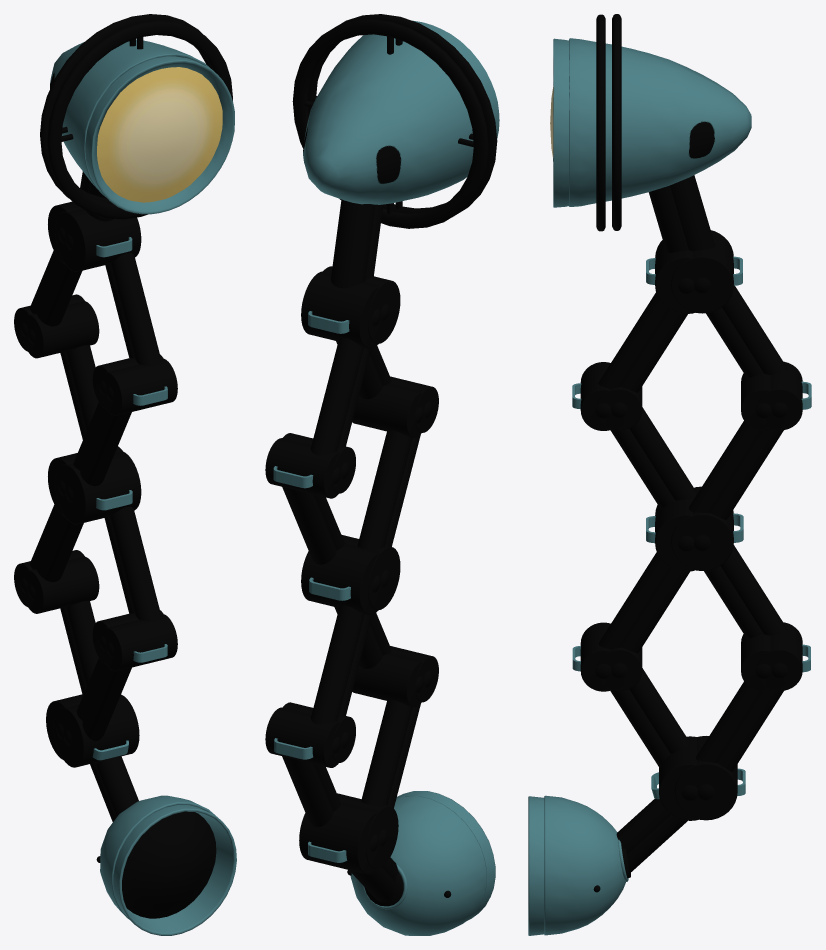
File: Sans titre 1.fbx
3 renders of one model, left to right at view 1: azimuth 30°, elevation 25°; view 2: azimuth 150°, elevation 25°; view 3: azimuth 270°, elevation 25°, orthographic. The views are drawn at different scales.
Parts seen in each view (by area): view 1: node_id46, node_id36; view 2: node_id36, node_id46; view 3: node_id36, node_id46.
Part boxes in pixels (x1,y1,x2,y2): node_id46: (22, 20, 236, 935); node_id36: (14, 14, 215, 919); node_id36: (265, 19, 488, 935); node_id46: (282, 14, 499, 920); node_id36: (544, 14, 811, 935); node_id46: (528, 14, 772, 935).
Size of the model in its own units: 0.1117 by 0.5124 by 0.1454.
3 materials, 3 textured.
